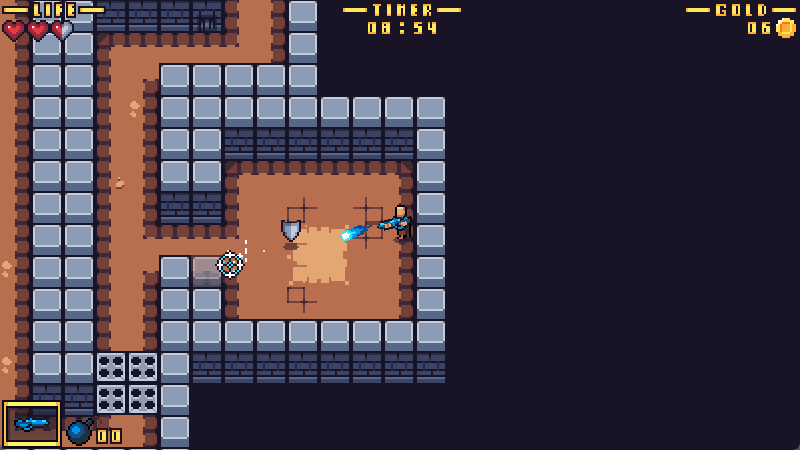aim: (215, 249, 246, 280)
gold_counter: (688, 1, 800, 38)
health-1: (1, 18, 76, 44)
player: (378, 206, 412, 242)
shield: (280, 219, 303, 244)
shoot: (339, 222, 370, 242)
timer: (340, 1, 463, 38)
